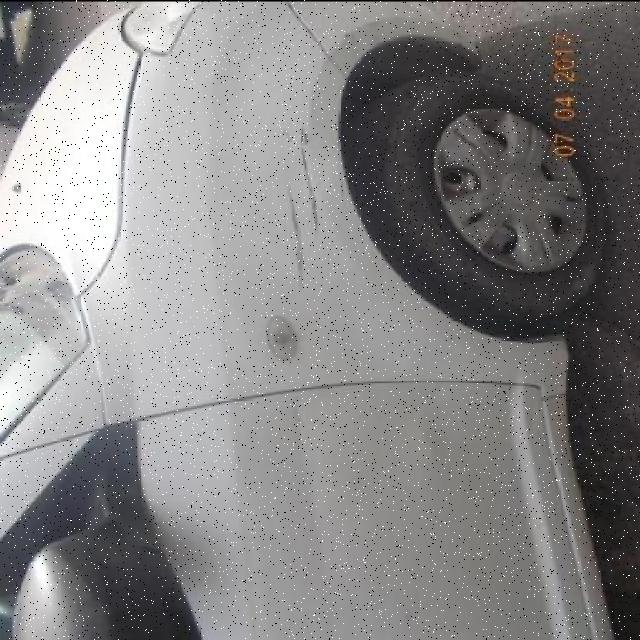damage: (334, 365, 501, 499), (284, 392, 348, 638), (281, 117, 331, 236), (277, 177, 316, 293), (373, 524, 390, 628), (397, 597, 424, 628)
